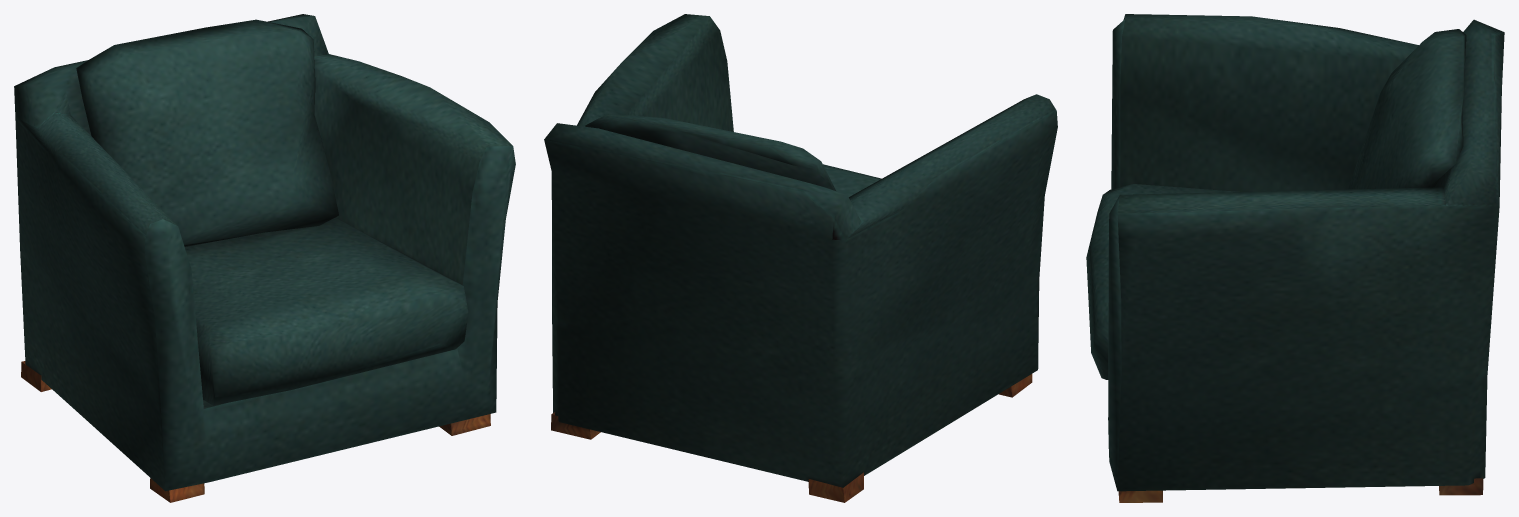
The model's file is armchair-1.FBX.
3 renders of one model, left to right at view 1: azimuth 30°, elevation 25°; view 2: azimuth 150°, elevation 25°; view 3: azimuth 270°, elevation 25°, orthographic. The views are drawn at different scales.
Visible parts, largest first — view 1: armchair-1_LOD0; view 2: armchair-1_LOD0; view 3: armchair-1_LOD0.
Boxes of the visible parts, left/top/right/bottom form: armchair-1_LOD0: left=14, top=14, right=515, bottom=502; armchair-1_LOD0: left=544, top=14, right=1057, bottom=502; armchair-1_LOD0: left=1086, top=14, right=1504, bottom=502.
Size of what is drawn, in the model's own units: 38.69 by 31.56 by 34.19.
